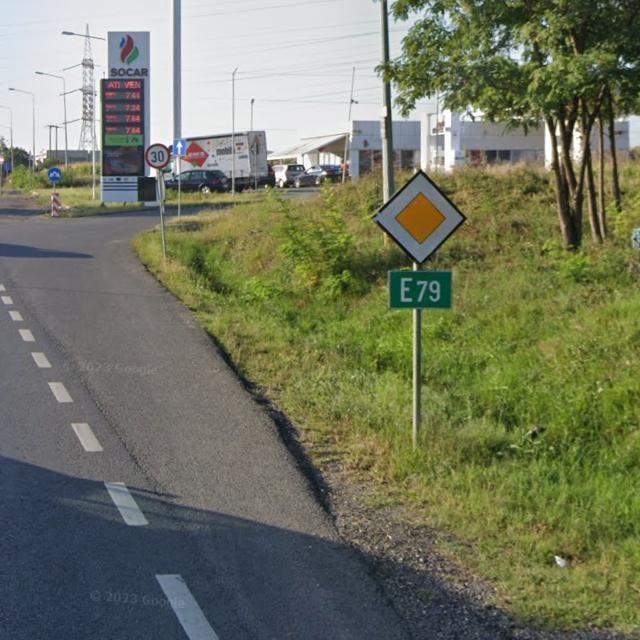forb_speed_over_30: (146, 143, 171, 169)
